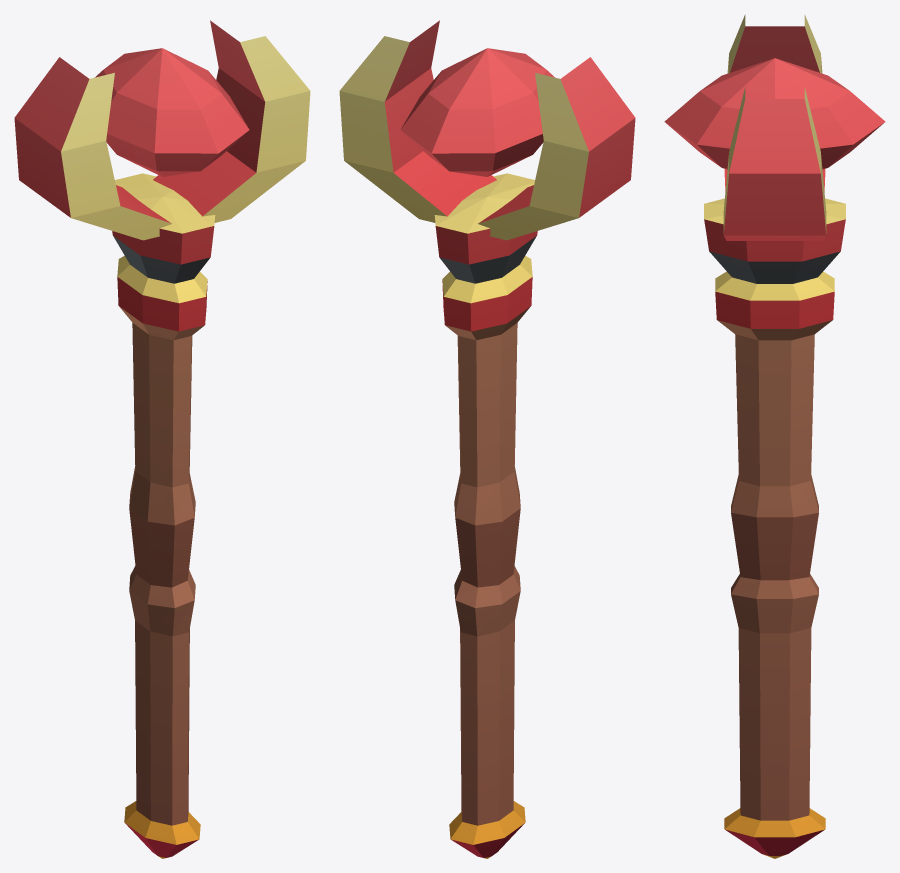
The model's file is wand_ruby.glb.
3 renders of one model, left to right at view 1: azimuth 30°, elevation 25°; view 2: azimuth 150°, elevation 25°; view 3: azimuth 270°, elevation 25°, orthographic.
Parts seen in each view (by area): view 1: model; view 2: model; view 3: model.
Part boxes in pixels (bbox=[...]): model: bbox=[14, 20, 310, 858]; model: bbox=[339, 20, 635, 858]; model: bbox=[664, 14, 885, 858].
Size of the model in its own units: 0.36 by 1.12 by 0.28.
Materials: 1 (1 with a texture image).
